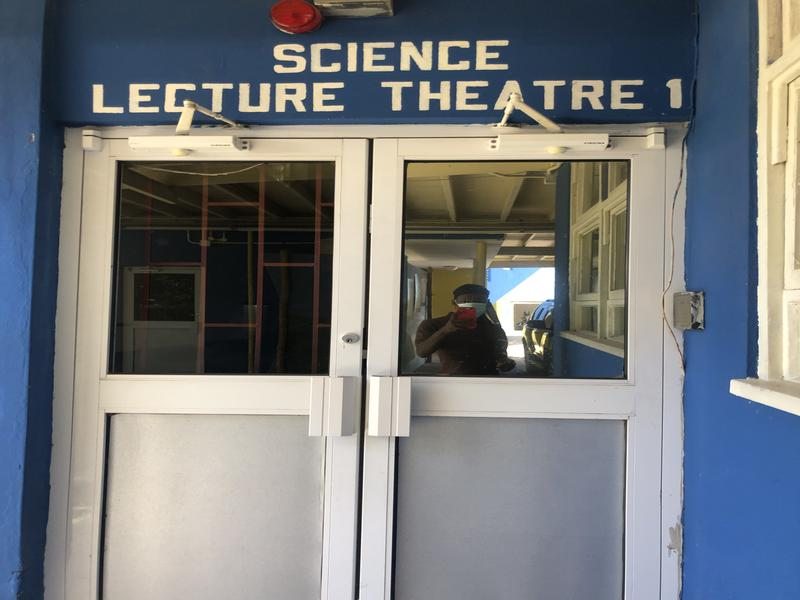18.0051836_-76.7497262_pclt1: (34, 36, 728, 600)
